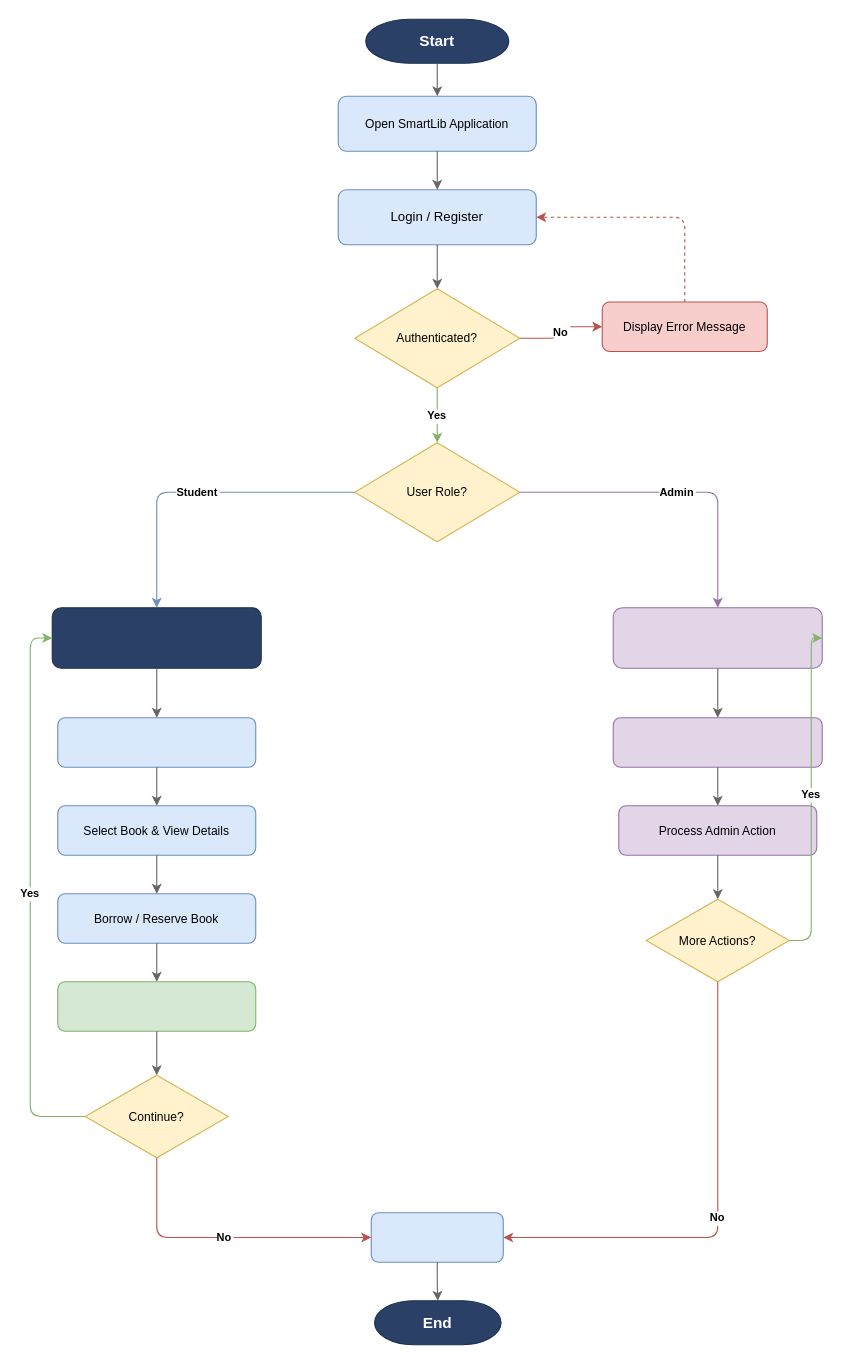
Image size: 850x1364. Some labels were removed from this diagram. The shapes that lost their labels are listed below. From the top down, each one's box as (x1, y1, x2, y2) in pixels, then its label:
(51, 607, 261, 668): Student Dashboard
(612, 607, 822, 668): Admin Dashboard
(57, 717, 256, 767): Browse & Search Books
(612, 717, 822, 767): Manage Books, Users & Reports
(57, 981, 256, 1031): Receive Confirmation
(370, 1212, 503, 1262): Logout
